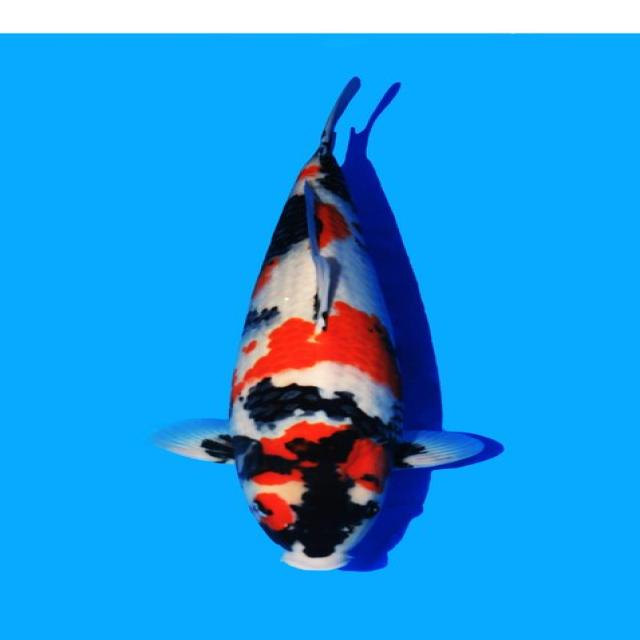Showa: (150, 74, 505, 573)
